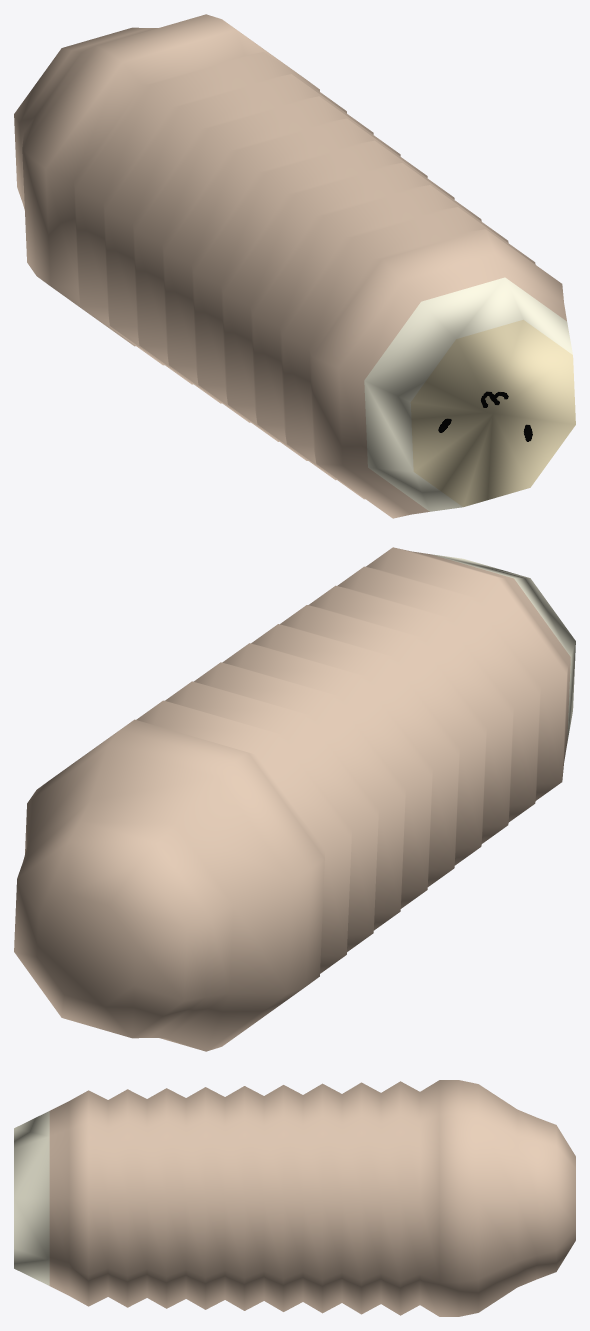
Rendered from sand_larva.glb.
3 views of the same model, one above another, from view 1: azimuth 30°, elevation 25°; view 2: azimuth 150°, elevation 25°; view 3: azimuth 270°, elevation 25° (orthographic). The views are drawn at different scales.
Parts seen in each view (by area): view 1: SandLarva; view 2: SandLarva; view 3: SandLarva.
Boxes of the visible parts, bbox=[...] form: SandLarva: bbox=[14, 14, 575, 518]; SandLarva: bbox=[14, 547, 575, 1051]; SandLarva: bbox=[14, 1080, 575, 1316].
Size of the model in its own units: 0.1299 by 0.1299 by 0.3279.
2 materials, 2 textured.
